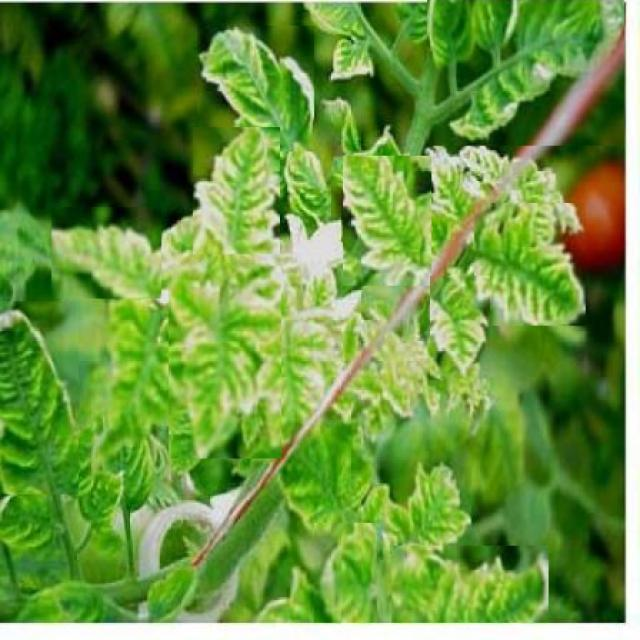Yellow Leaf Curl Virus: (427, 0, 624, 146), (168, 266, 282, 458), (0, 302, 79, 494), (197, 25, 314, 152), (474, 203, 586, 326), (392, 546, 548, 624), (342, 156, 432, 286), (193, 127, 280, 254), (52, 208, 162, 299), (382, 452, 472, 555), (314, 523, 377, 623), (430, 276, 490, 378)
